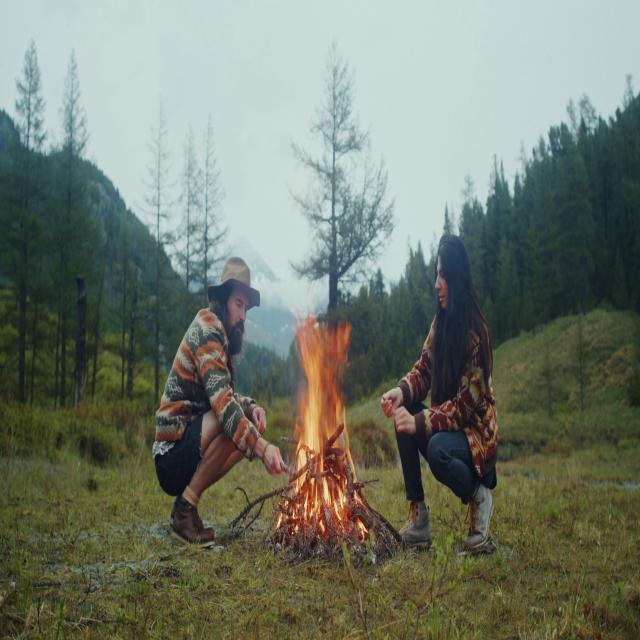Fire: (275, 302, 374, 538)
